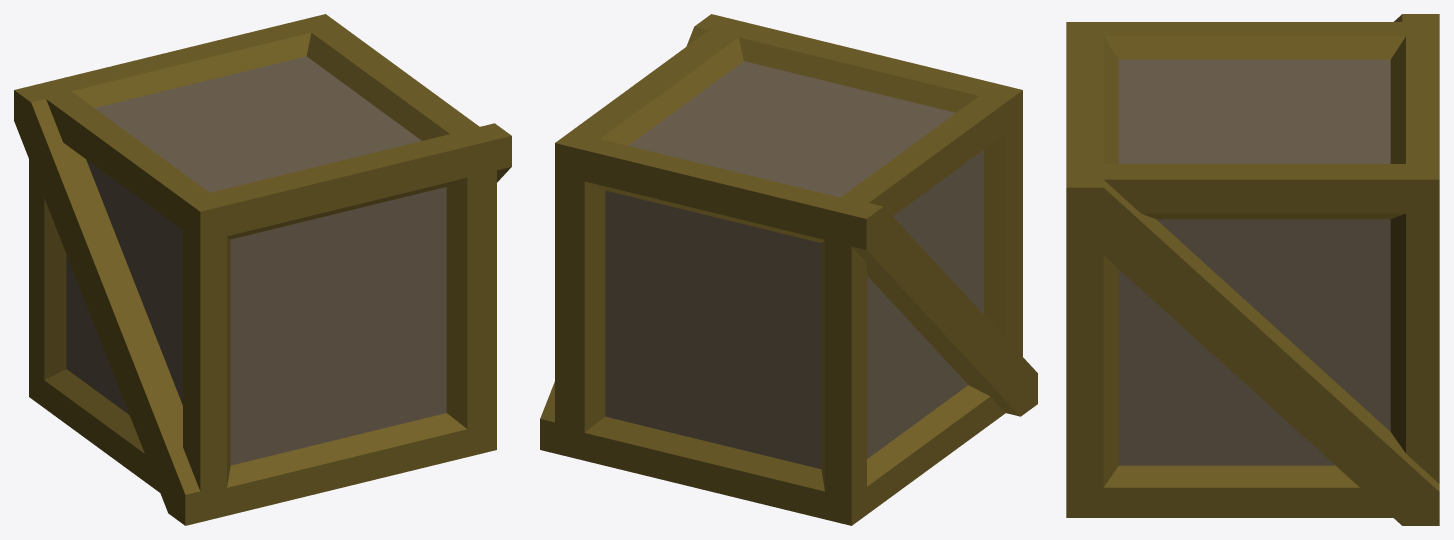
The model's file is Crate.fbx.
3 views of the same model, side by side, from view 1: azimuth 30°, elevation 25°; view 2: azimuth 150°, elevation 25°; view 3: azimuth 270°, elevation 25° (orthographic). The views are drawn at different scales.
Parts seen in each view (by area): view 1: Crate; view 2: Crate; view 3: Crate.
Part boxes in pixels (x1,y1,x2,y2): Crate: (14,14,511,525); Crate: (540,14,1037,525); Crate: (1066,14,1439,525).
Size of the model in its own units: 97.59 by 88.72 by 88.72.
